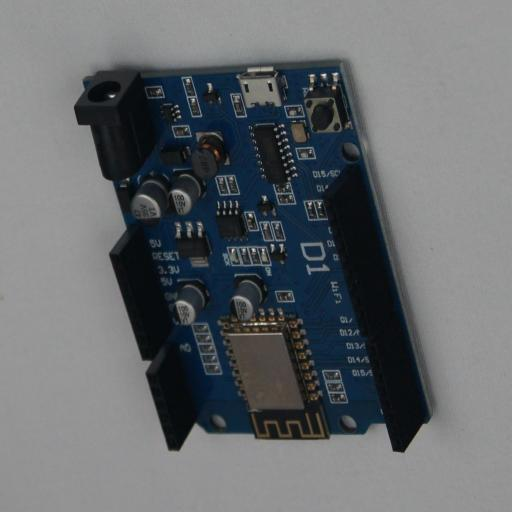Arduino Uno WiFi Shield: (74, 59, 435, 452)
